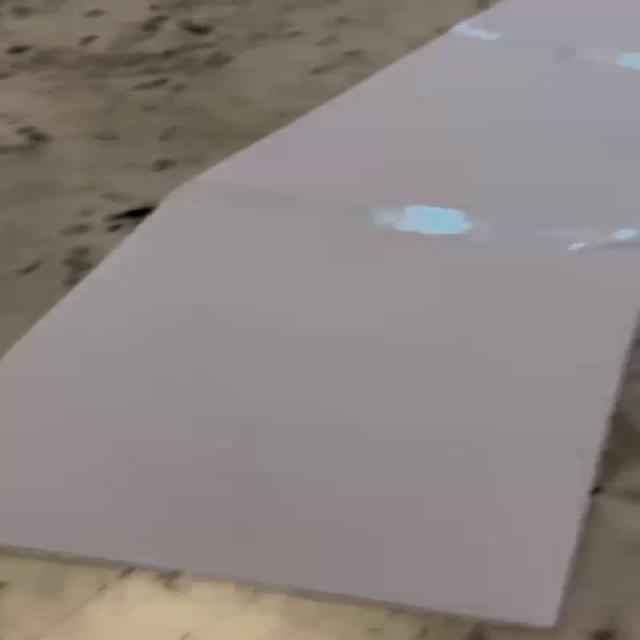road: (0, 0, 640, 629)
